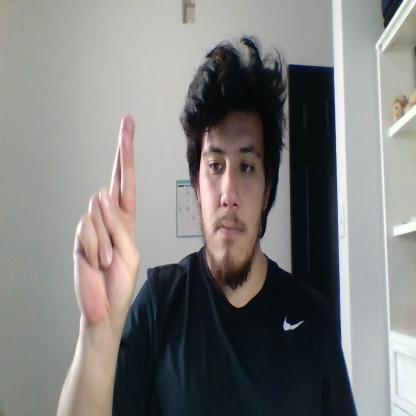R: (73, 113, 141, 325)
